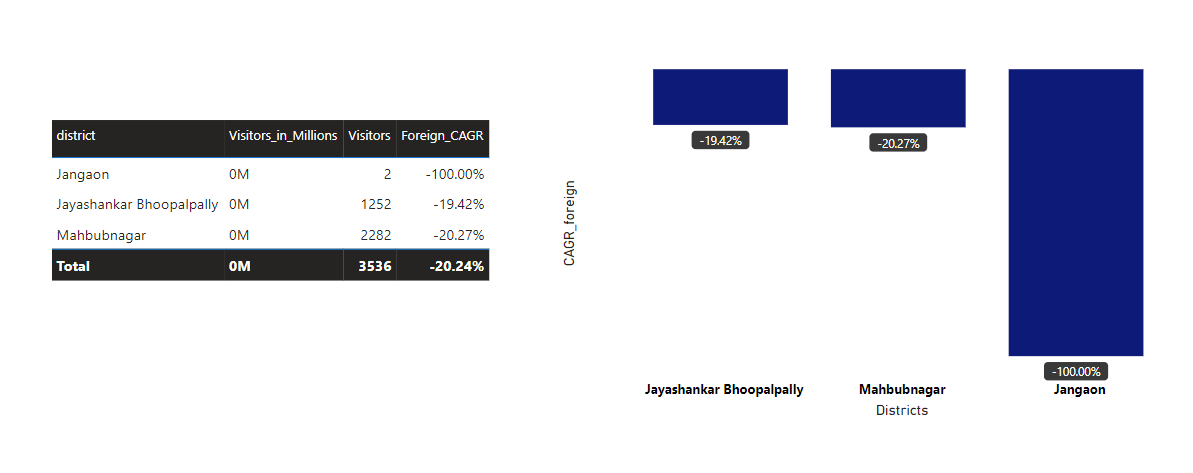

The dashboard page shown, as its layout file describes it:
{"tool":"powerbi","page":{"name":"Insight_2_Foreign_decline","canvas":[1280,720],"ordinal":6},"visuals":[{"type":"tableEx","fields":{"Values":["foreign_vistors_file.district","foreign_vistors_file.Millions_foreign","Sum(foreign_vistors_file.visitors)","CAGR_Foreign.CAGR_foreign"]},"box":[73.3,137.5,479.2,182.6],"z":0},{"type":"clusteredColumnChart","fields":{"Category":["foreign_vistors_file.district"],"Y":["CAGR_Foreign.CAGR_foreign"]},"box":[594.2,76.7,685.5,375.4],"z":1000}]}

Visuals, with their boxes on the page's 1280x720 design canvas (x1, y1, x2, y2). These are canvas units, not pixel positions in the 1193x473 screenshot, which may show the page scaled, cropped or inside an application window:
tableEx - foreign_vistors_file.district x foreign_vistors_file.Millions_foreign: crop(73, 138, 552, 320)
clusteredColumnChart - foreign_vistors_file.district x CAGR_Foreign.CAGR_foreign: crop(594, 77, 1280, 452)
